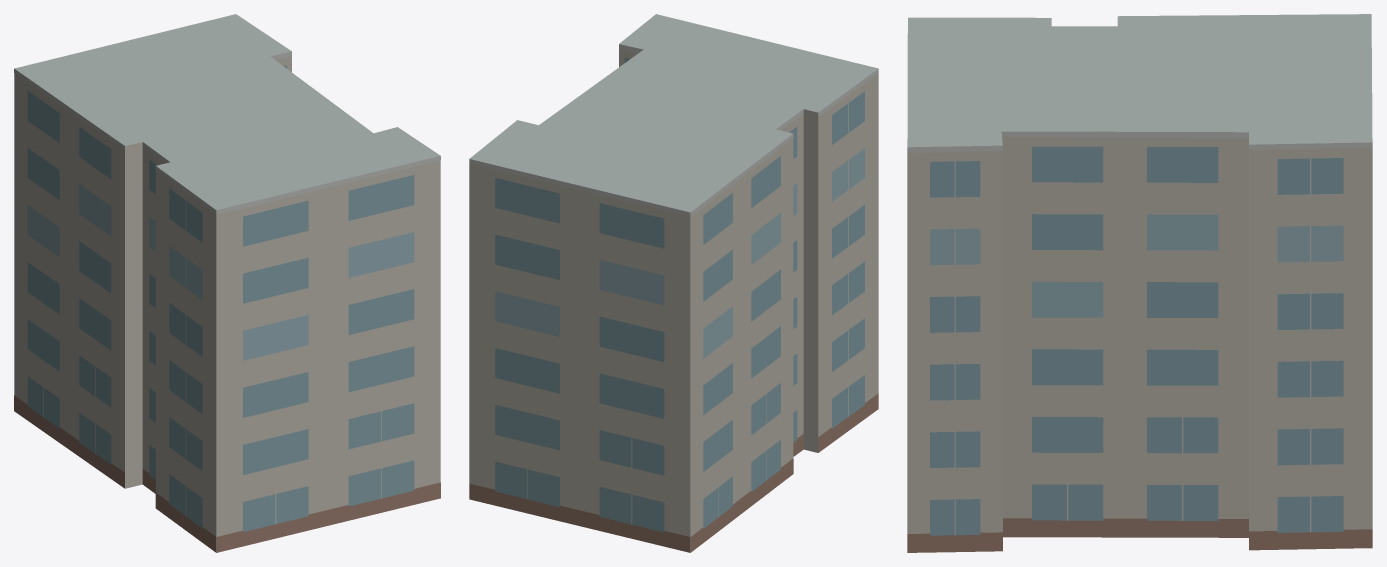
The model's file is survey-upis-32846192.glb.
3 views of the same model, side by side, from view 1: azimuth 30°, elevation 25°; view 2: azimuth 150°, elevation 25°; view 3: azimuth 270°, elevation 25° (orthographic). The views are drawn at different scales.
Parts seen in each view (by area): view 1: survey-upis-32846192.tmp; view 2: survey-upis-32846192.tmp; view 3: survey-upis-32846192.tmp.
Boxes of the visible parts, box(x1,y1,x2,y2) form: survey-upis-32846192.tmp: box(14, 14, 440, 552); survey-upis-32846192.tmp: box(469, 14, 878, 552); survey-upis-32846192.tmp: box(907, 14, 1372, 552).
Size of the model in its own units: 12.69 by 18 by 18.71.
